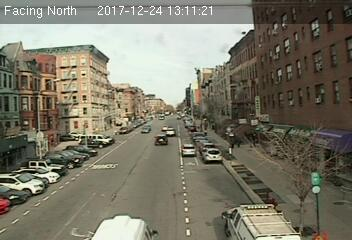car: (180, 142, 197, 158), (202, 148, 221, 160), (154, 134, 168, 145)
truck: (220, 198, 305, 240)
